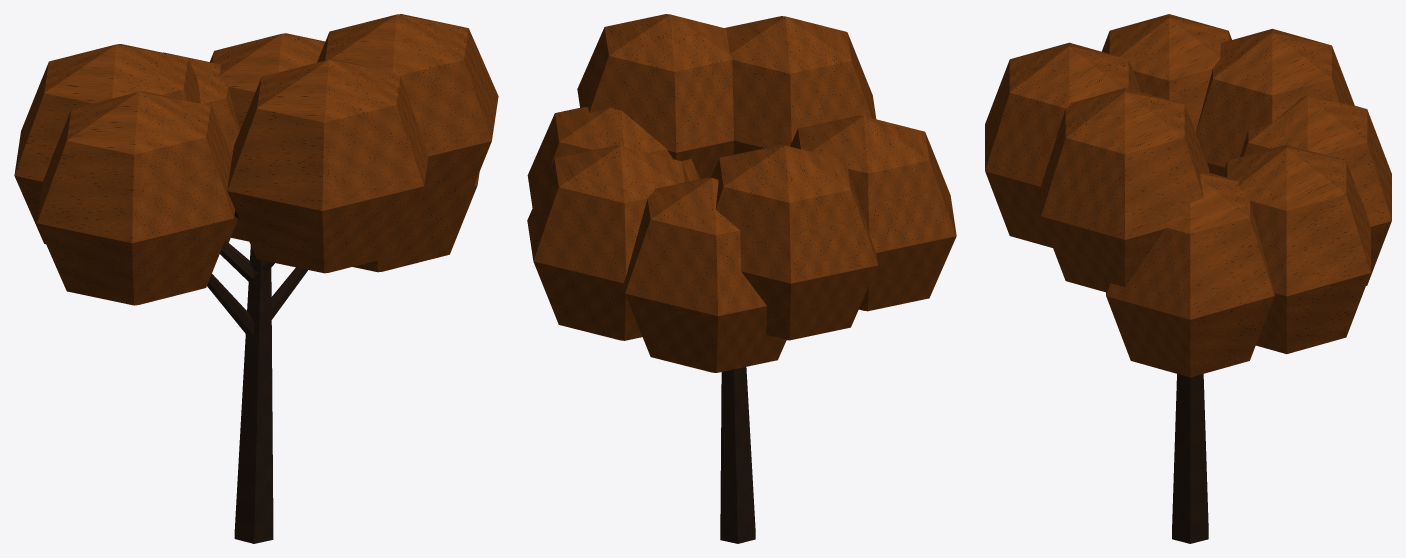
The model's file is PROP-D93C2EC22851_lod2.glb.
3 views of the same model, side by side, from view 1: azimuth 30°, elevation 25°; view 2: azimuth 150°, elevation 25°; view 3: azimuth 270°, elevation 25° (orthographic). The views are drawn at different scales.
Visible parts, largest first — view 1: leaf_crown.085, trunk.077, branch.049; view 2: leaf_crown.085, trunk.077; view 3: leaf_crown.085, trunk.077.
Boxes of the visible parts, x1=… form: leaf_crown.085: x1=14, y1=14, x2=498, y2=305; trunk.077: x1=234, y1=245, x2=273, y2=543; branch.049: x1=207, y1=210, x2=307, y2=335; leaf_crown.085: x1=527, y1=14, x2=956, y2=372; trunk.077: x1=720, y1=367, x2=755, y2=543; leaf_crown.085: x1=985, y1=14, x2=1391, y2=377; trunk.077: x1=1172, y1=374, x2=1208, y2=543.
Size of the model in its own units: 5.7 by 6.17 by 4.6.
2 materials, 2 textured.
